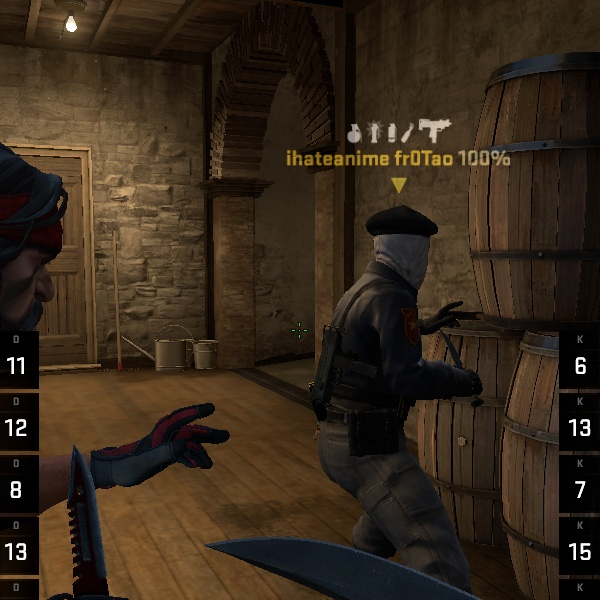t_body: (276, 199, 502, 589)
